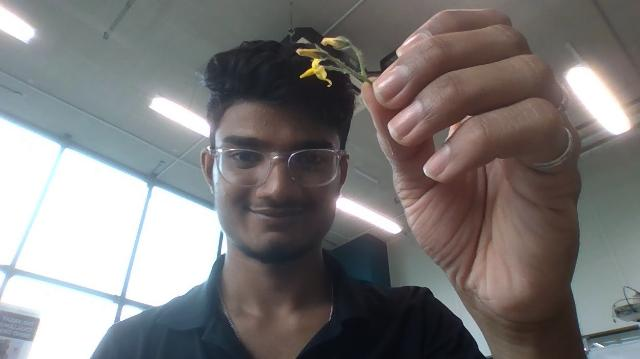Anthesis: (299, 58, 333, 87), (295, 48, 328, 60), (320, 37, 349, 49)
